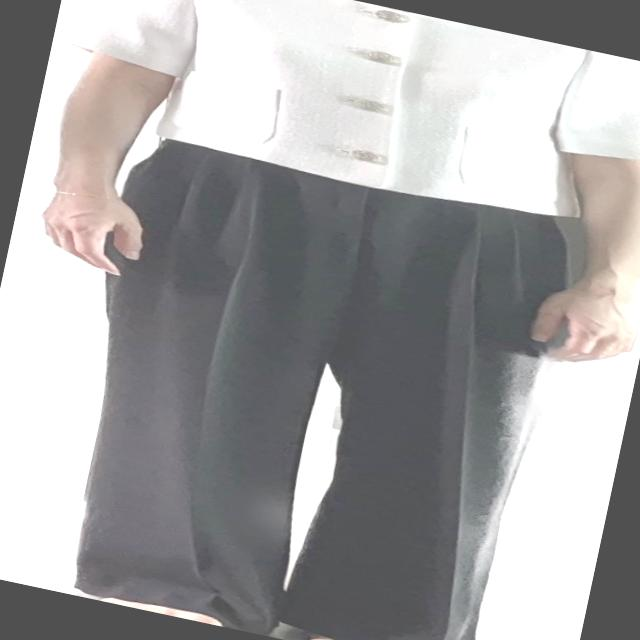blazer: (36, 0, 640, 247)
slacks: (23, 121, 609, 640)
